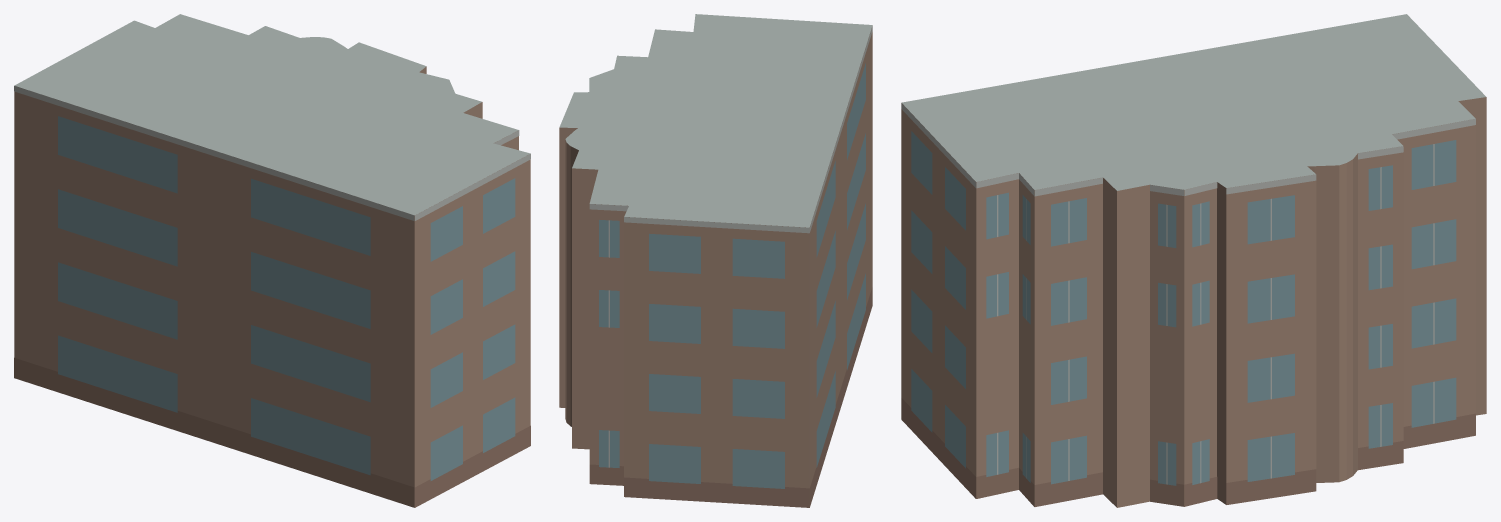
Rendered from survey-upis-33046667.glb.
3 views of the same model, side by side, from view 1: azimuth 30°, elevation 25°; view 2: azimuth 150°, elevation 25°; view 3: azimuth 270°, elevation 25° (orthographic). The views are drawn at different scales.
Visible parts, largest first — view 1: survey-upis-33046667.tmp; view 2: survey-upis-33046667.tmp; view 3: survey-upis-33046667.tmp.
Part boxes in pixels (x1,y1,x2,y2): survey-upis-33046667.tmp: (14,14,530,507); survey-upis-33046667.tmp: (559,14,872,507); survey-upis-33046667.tmp: (901,14,1486,507).
Bounding box in the file's own units: 14.61 × 12.2 × 20.42.
